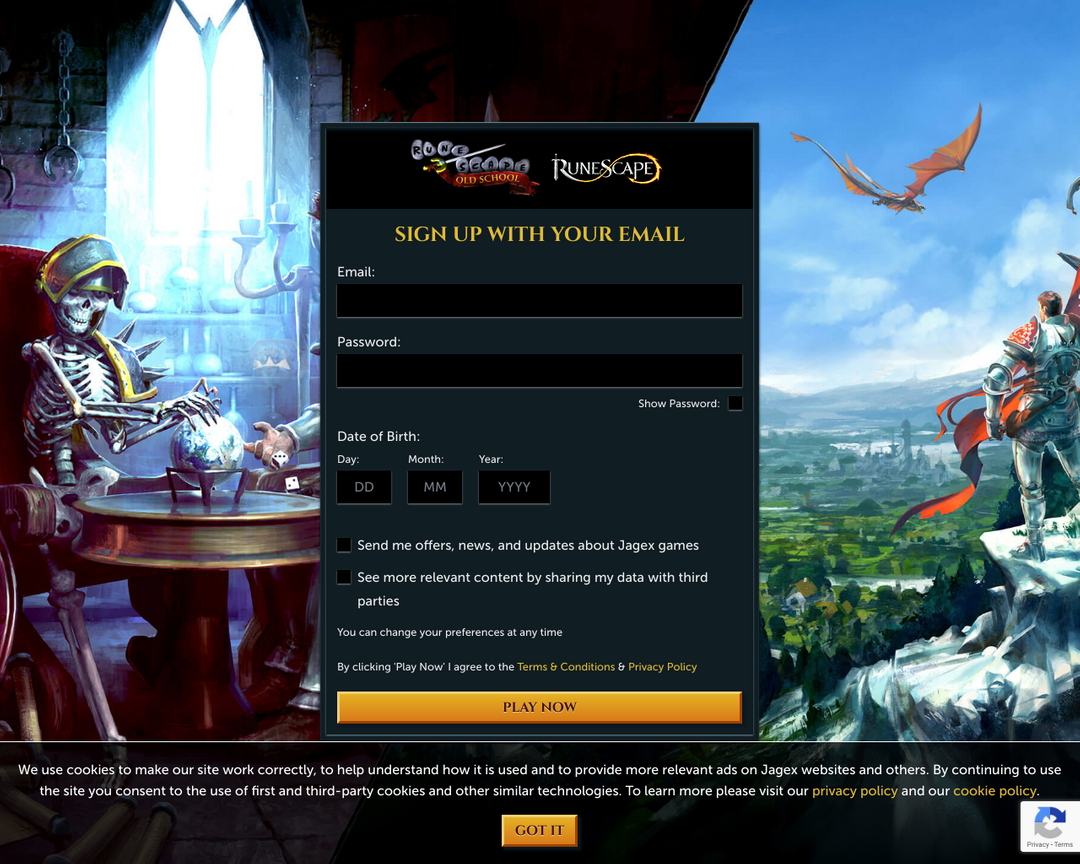Runescape: (411, 134, 538, 196), (550, 146, 666, 190)
